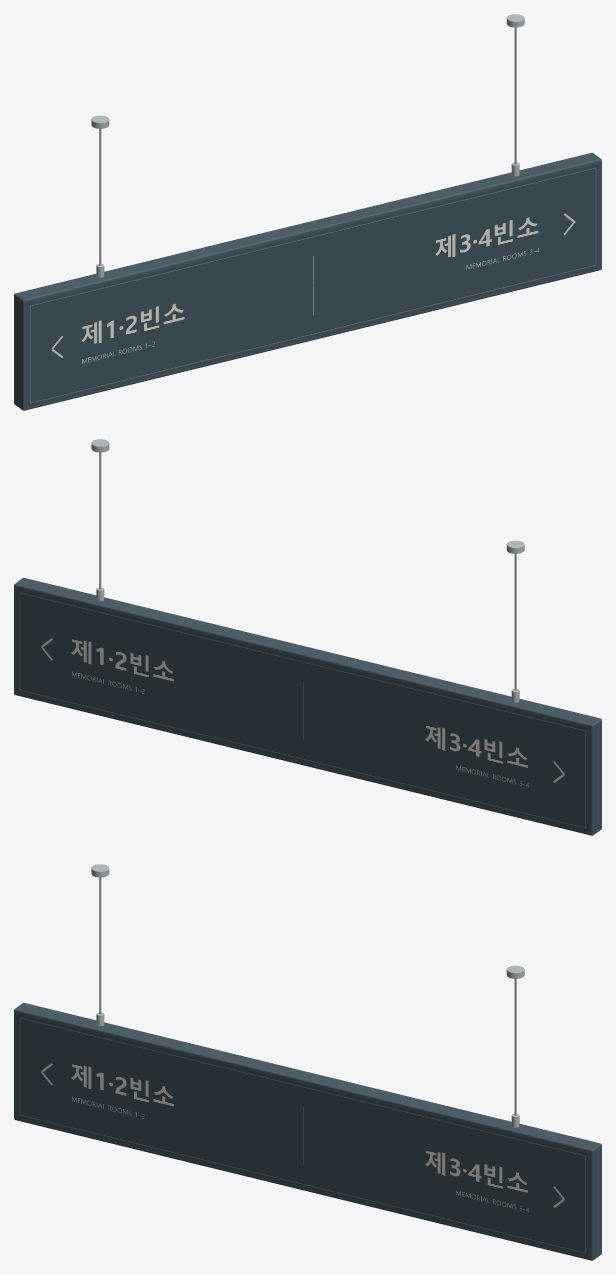
The model's file is Direction_2F.fbx.
The picture shows the model from 3 angles, top to bottom: view 1: azimuth 30°, elevation 25°; view 2: azimuth 150°, elevation 25°; view 3: azimuth 330°, elevation 25°; orthographic projection.
Visible parts, largest first — view 1: Direction_2F; view 2: Direction_2F; view 3: Direction_2F.
Part boxes in pixels (x1,y1,x2,y2): Direction_2F: (14, 14, 601, 410); Direction_2F: (14, 439, 601, 835); Direction_2F: (14, 864, 601, 1260).
Bounding box in the file's own units: 1.2 × 0.532 × 0.037.
4 materials, 1 textured.
